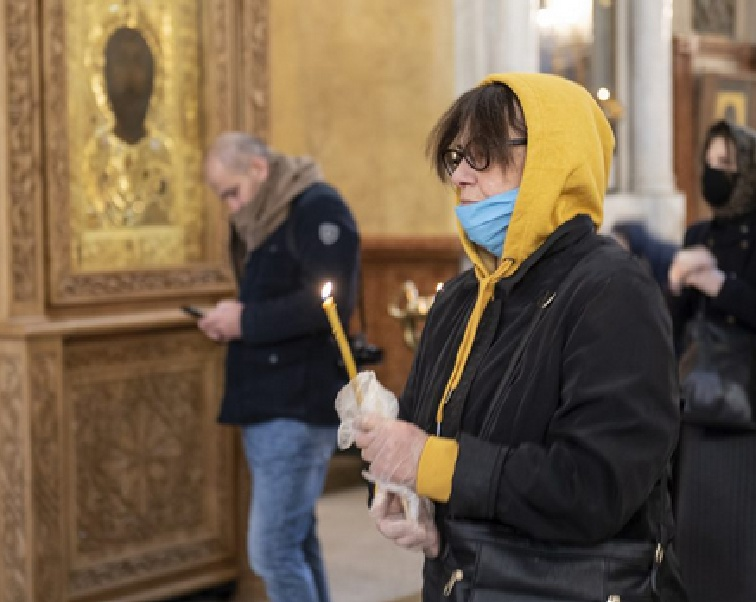mouth: (454, 195, 475, 204)
nose: (449, 172, 476, 186)
